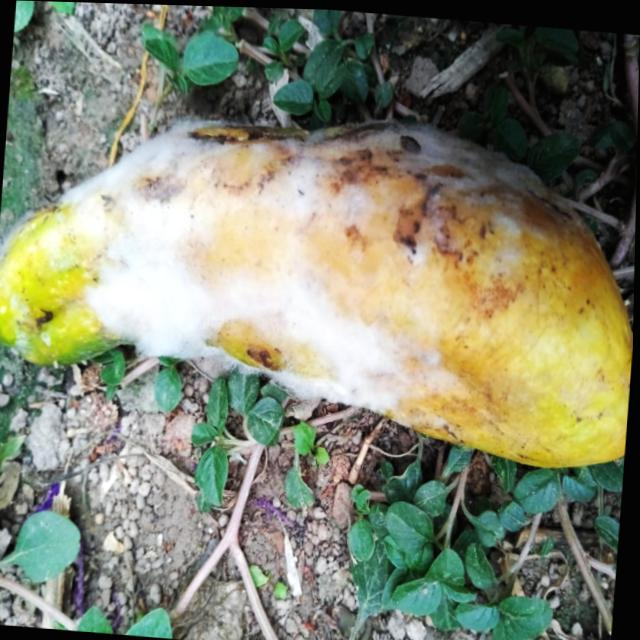Pythium-Fruit-Rot: (46, 86, 583, 437)
